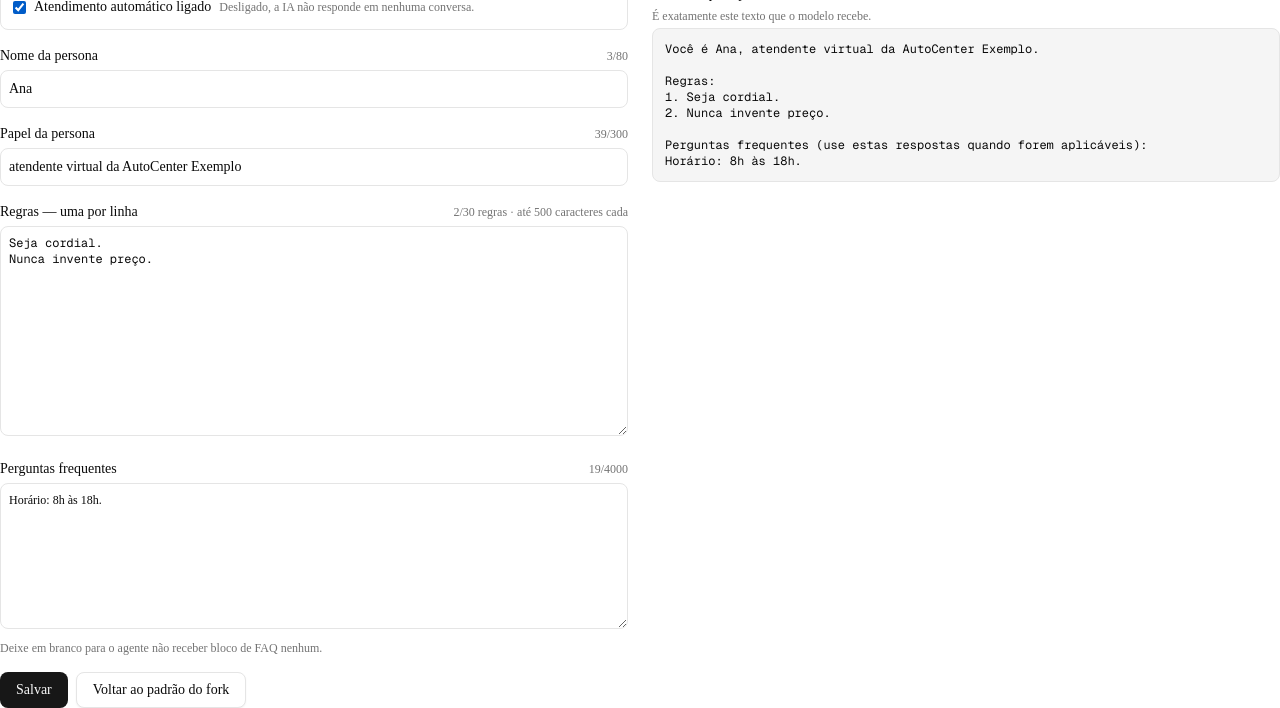
Test case: restaurar padrão passa por diálogo, não por window.confirm › clicar no gatilho NÃO restaura — abre a confirmação
Step 1. Click the button "Voltar ao padrão do fork" → {"x": 161, "y": 690}, box [76,672,246,707]
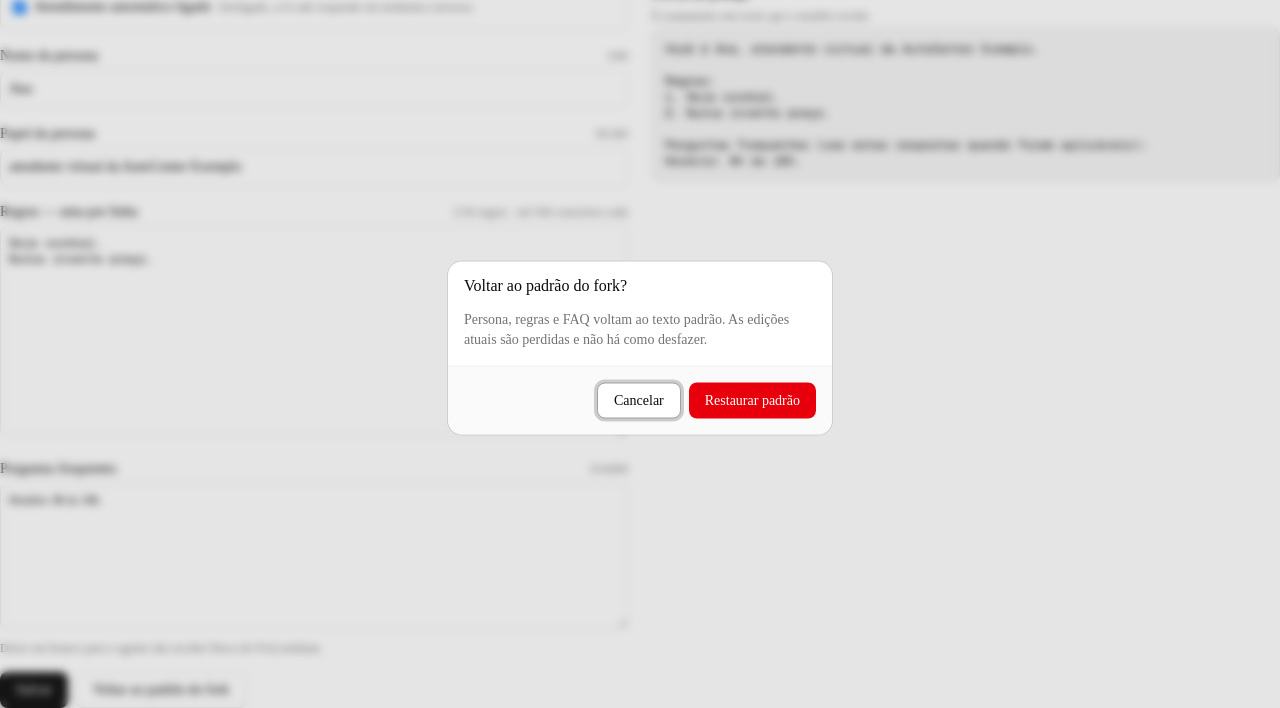
Expected: the dialog is shown, [448,262,832,434]
